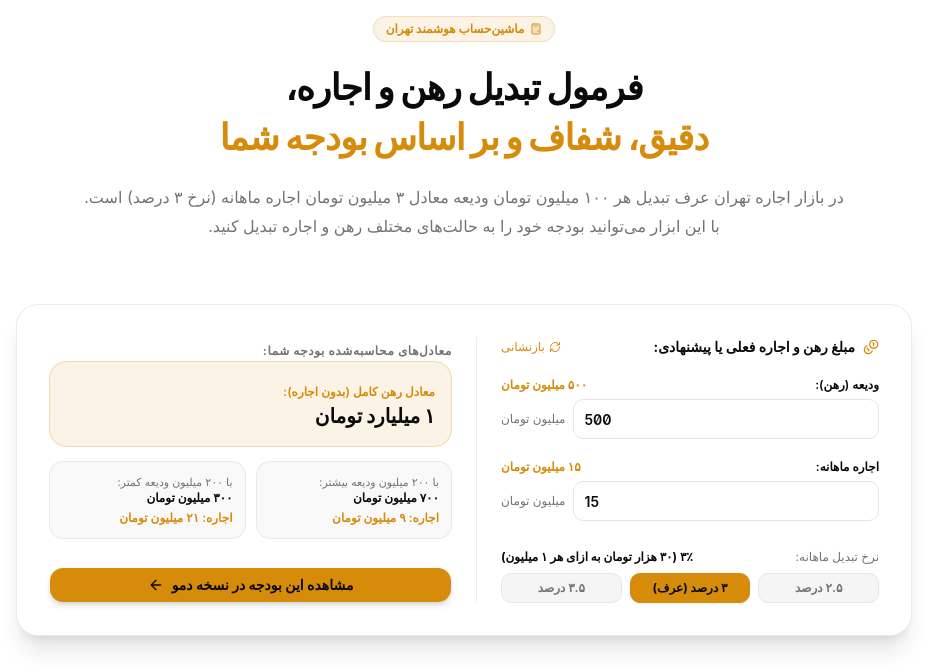
Scenario: RentCalculatorSection › updates calculations when user changes monthly rate to 2.5%
The width and height of the screenshot is (929, 670).
Click the button "۲.۵ درصد" at (819, 588), box x1=758 y1=573 x2=879 y2=603
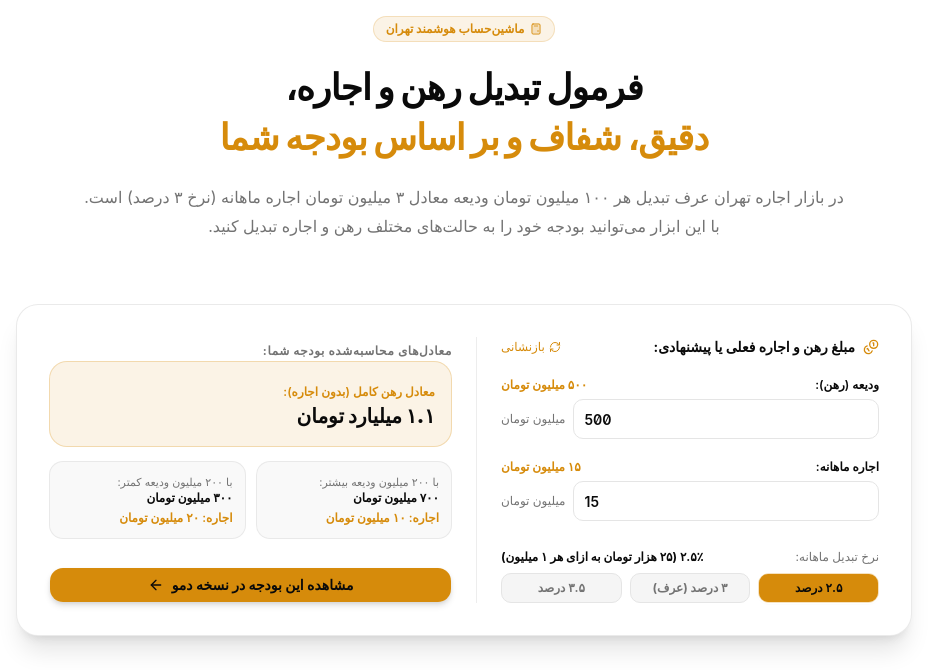
Expected: the text "۱.۱ میلیارد تومان" is shown, x1=297 y1=404 x2=435 y2=428
